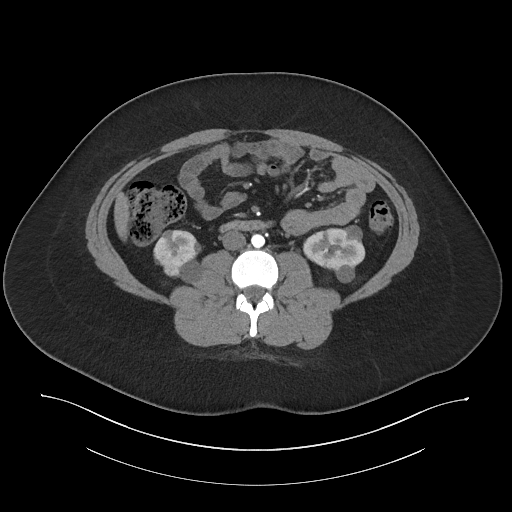Lesion: (160, 257, 180, 280)
